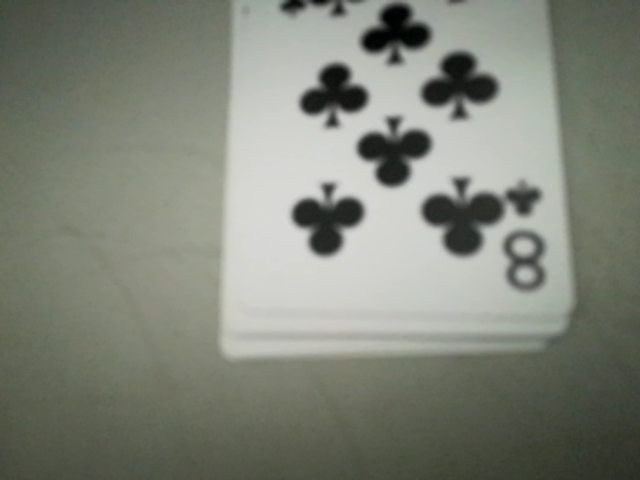mh 8: (501, 176, 547, 300)
